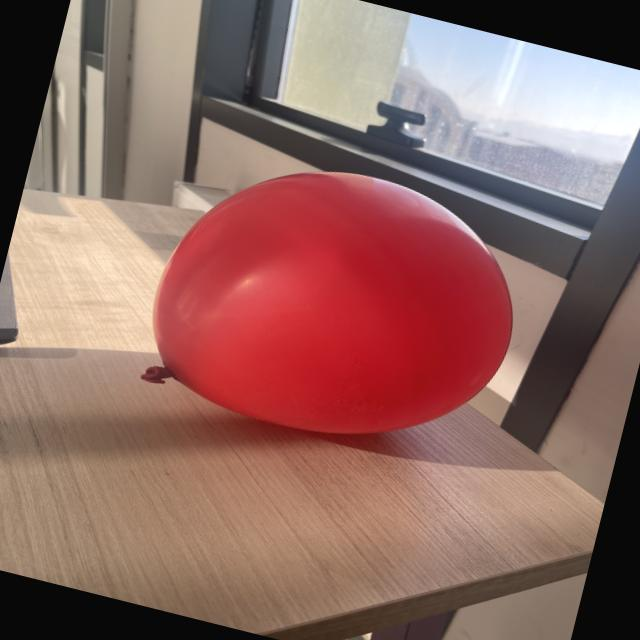balloon: (153, 172, 512, 433)
